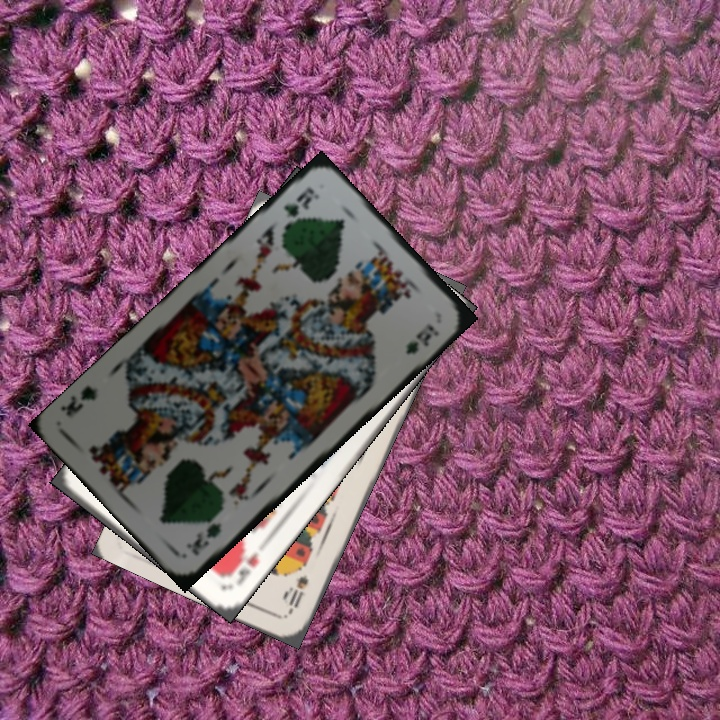GK: (182, 519, 224, 558), (279, 183, 322, 221)
HK: (232, 547, 262, 589)
S10: (284, 570, 311, 617)
